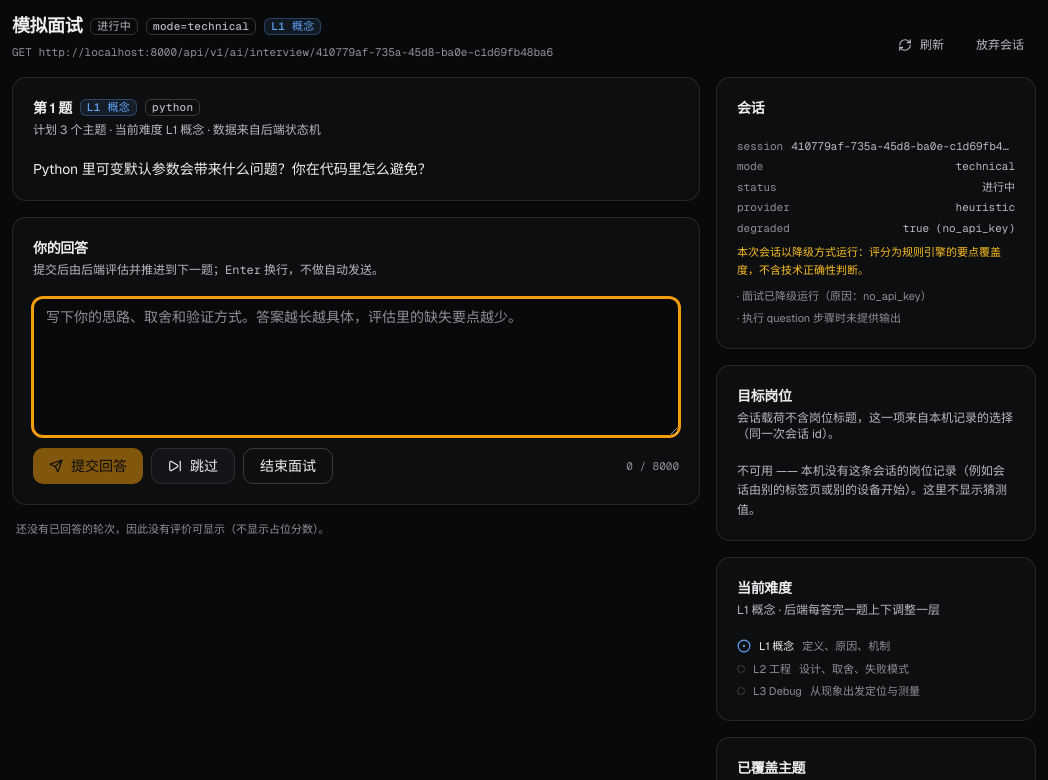
the workspace › shows the difficulty notice only when the level actually moved
The image size is (1048, 780).
Expected: the text "Python 里可变默认参数会带来什么问题？你在代码里怎么避免？" is shown, [33,160,432,178]
Type "我用 None 作为默认值，避免可变对象在多次调用之间被共享。" into the text box named "你的回答" at (356, 367), box [33,298,679,436]
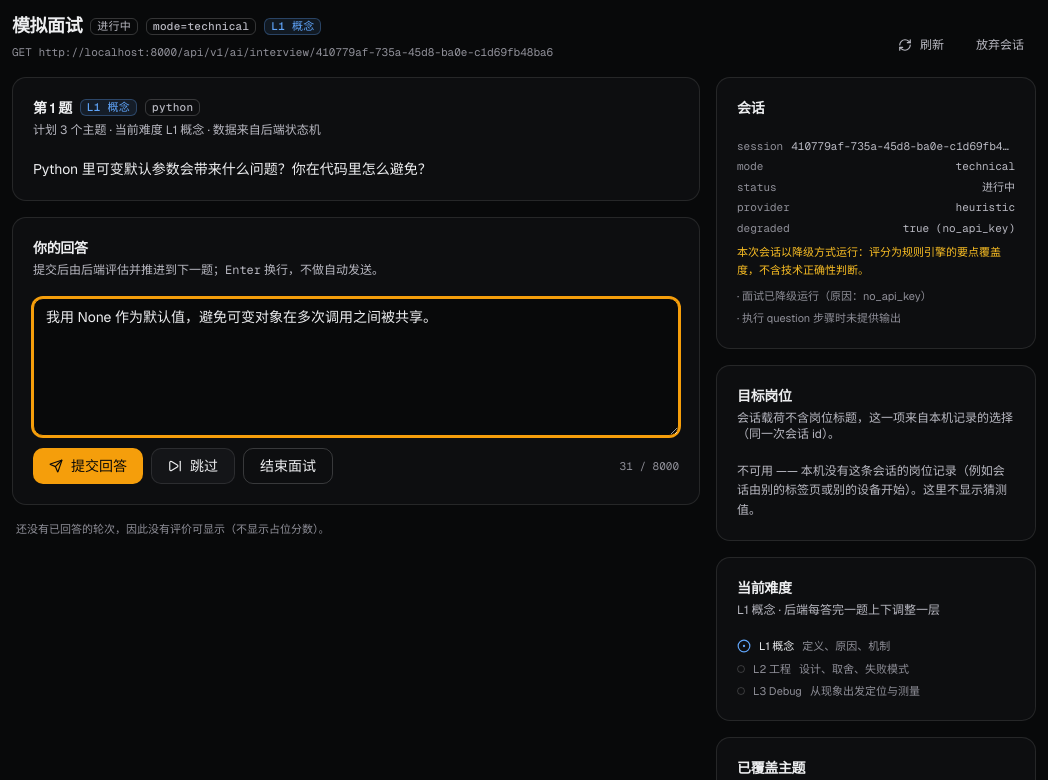
Click the button "提交回答" at (88, 466), box [33,448,143,484]
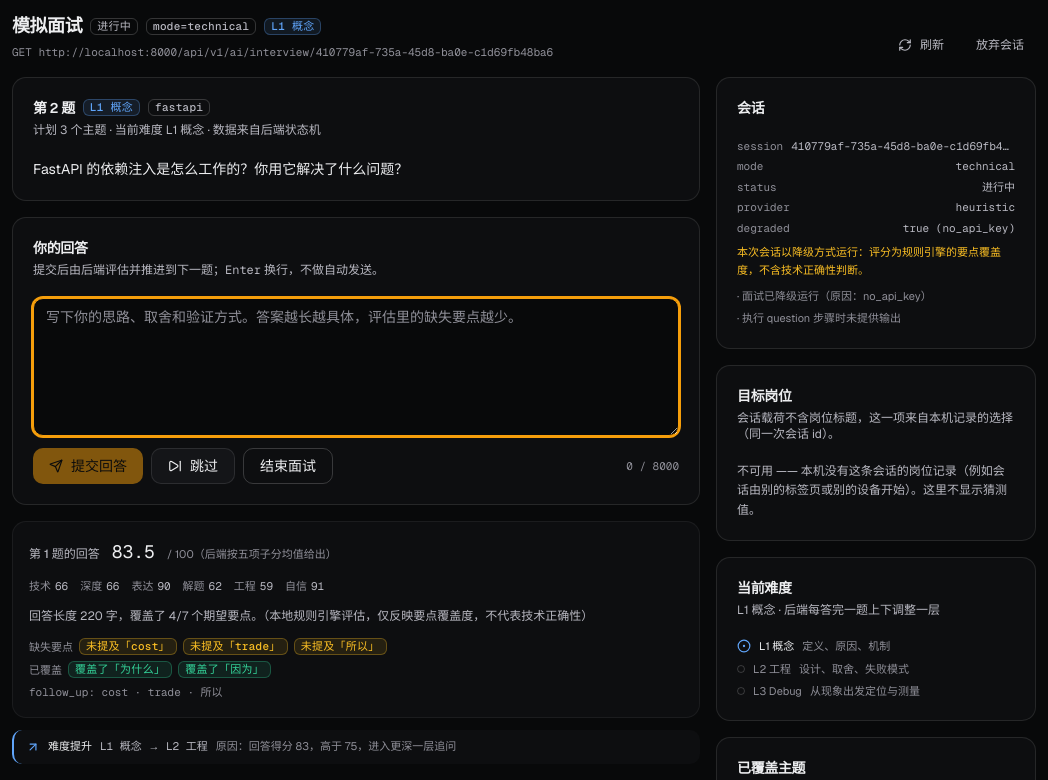
Expected: the text "原因：回答得分 83，高于 75，进入更深一层追问" is shown, [216,738,456,756]
Expected: the text "L1 概念 → L2 工程" is shown, [100,738,208,756]
